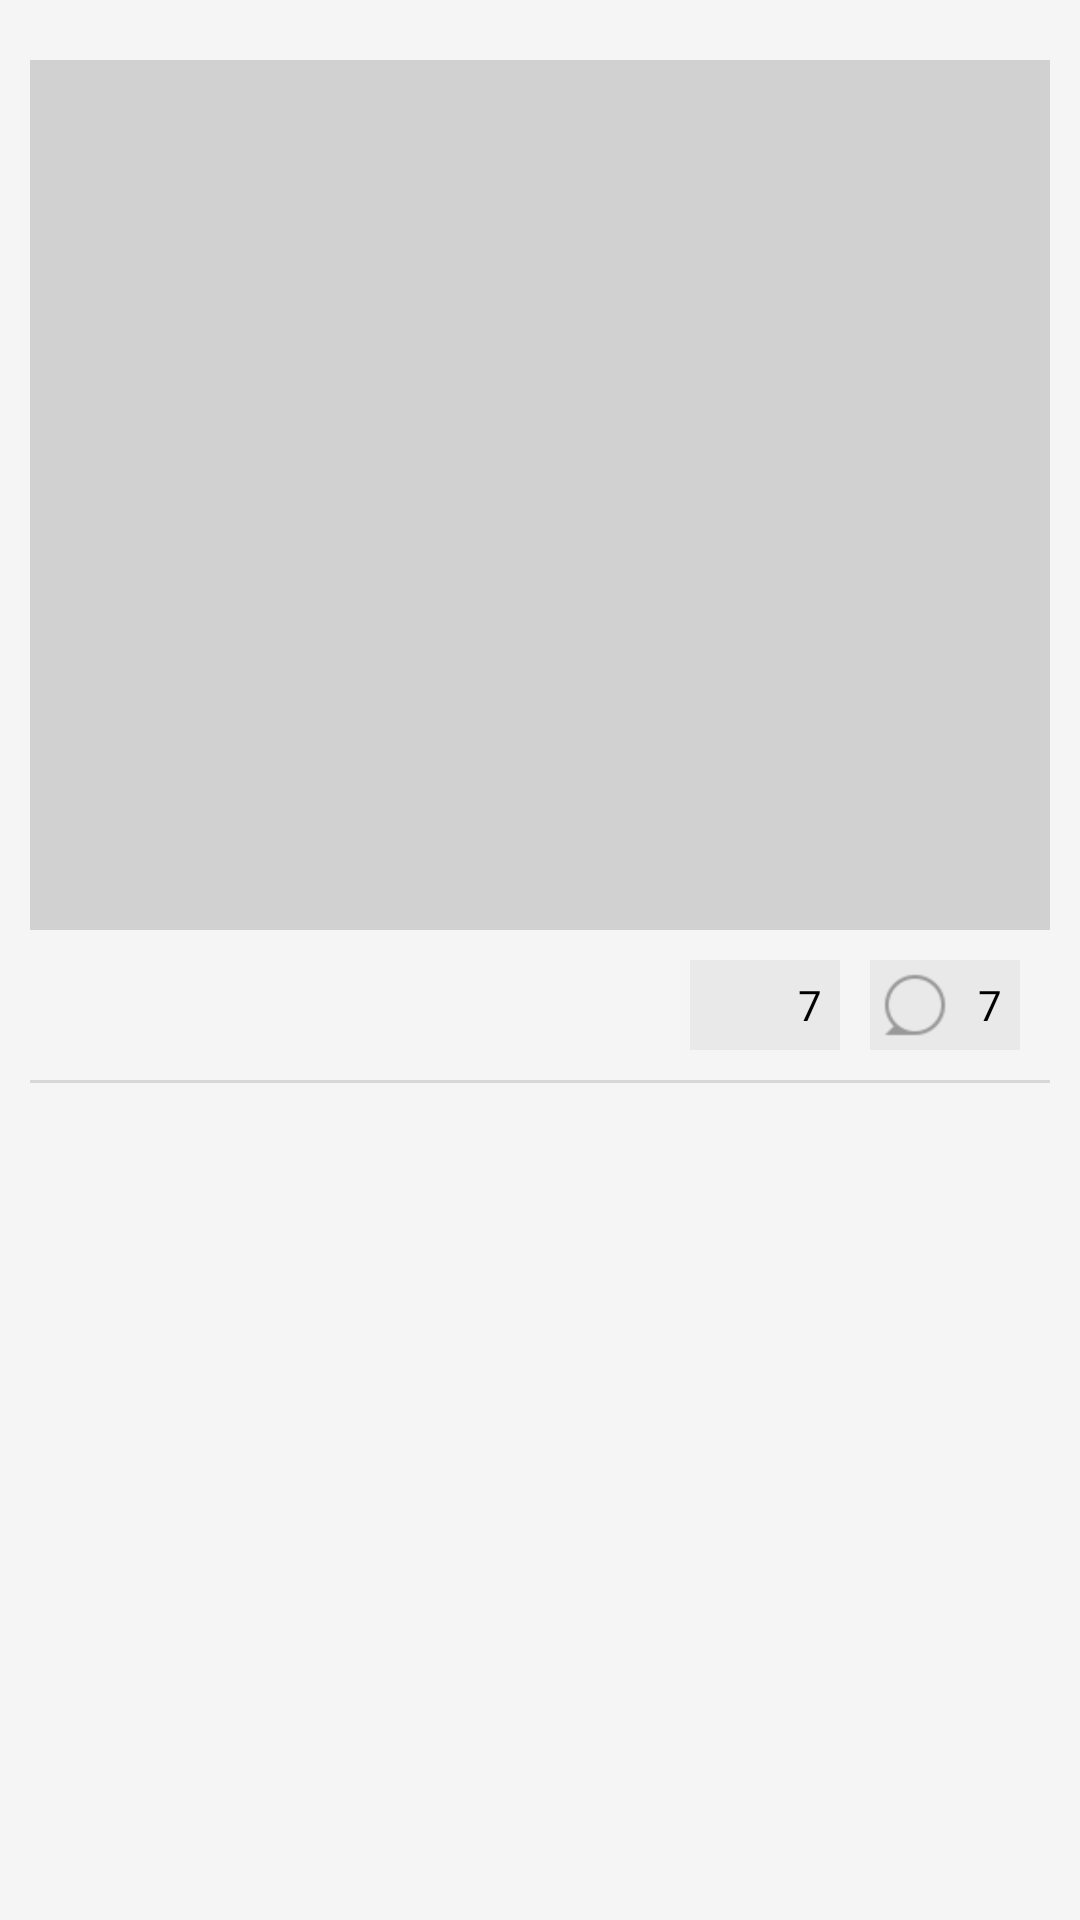

Screen size 1080×1920. Icon name, then its box in pixels as (x1, y1, x2, y2):
comment: (870, 960, 960, 1050)
